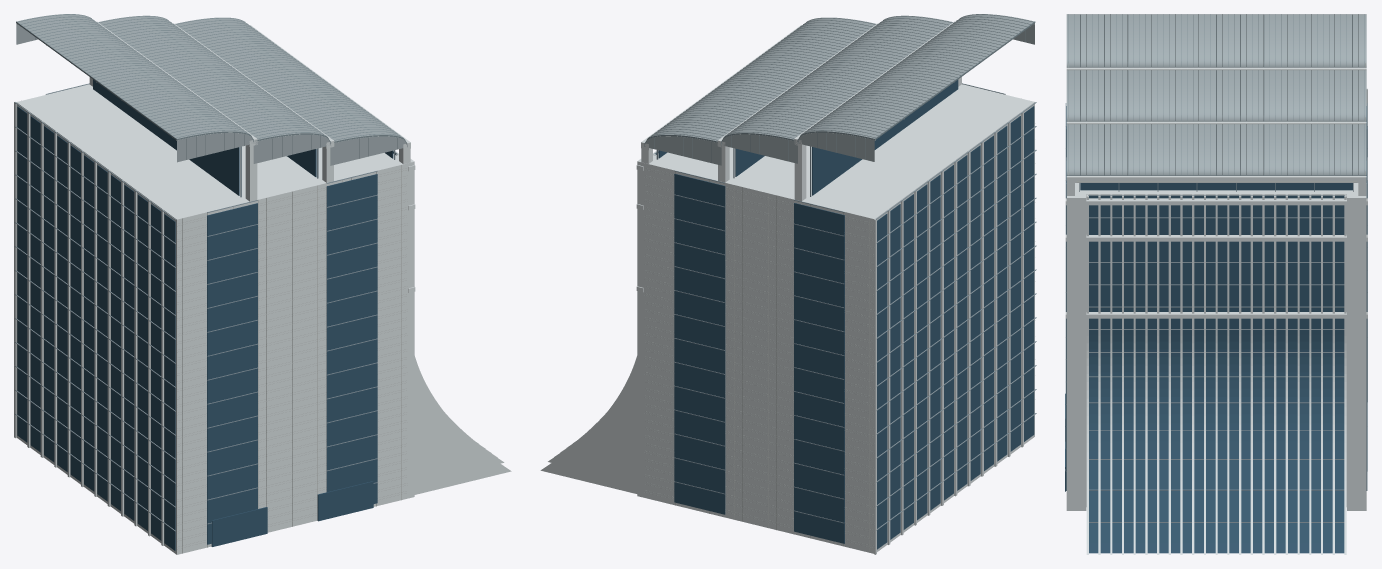
3 renders of one model, left to right at view 1: azimuth 30°, elevation 25°; view 2: azimuth 150°, elevation 25°; view 3: azimuth 270°, elevation 25°, orthographic. The views are drawn at different scales.
Parts seen in each view (by area): view 1: PaleStructuralTowerCore, InnerFaceNarrowWindowStrips, SolidSweptWhiteCheeks, EndElevationTallInsetGlass, InnerFaceStoneVerticalBands, CrownTier3_CurvedMetalSkin, CrownTier1_CurvedMetalSkin, CrownTier2_CurvedMetalSkin, CrownTier3_FoldedStandingSeams, InnerFaceFineStoreyBands, CrownTier2_FoldedStandingSeams, CrownTier1_FoldedStandingSeams (+12 smaller); view 2: PaleStructuralTowerCore, InnerFaceNarrowWindowStrips, SolidSweptWhiteCheeks, EndElevationTallInsetGlass, InnerFaceStoneVerticalBands, CrownTier3_CurvedMetalSkin, CrownTier2_CurvedMetalSkin, CrownTier1_CurvedMetalSkin, CrownTier3_FoldedStandingSeams, InnerFaceFineStoreyBands, CrownTier1_FoldedStandingSeams, CrownTier2_FoldedStandingSeams (+11 smaller); view 3: SweptBlueGreyCurtainWall, ContinuousWhiteVerticalFins, CrownTier3_CurvedMetalSkin, CrownTier1_CurvedMetalSkin, CrownTier2_CurvedMetalSkin, WideStoneEdgeSpines, StrongArchitecturalWhiteBelts, OpenCrownHeader, FineCurtainWallTransoms, CrownTier3_FoldedStandingSeams, CrownTier1_FoldedStandingSeams, CrownTier2_FoldedStandingSeams (+6 smaller).
Boxes of the visible parts, left/top/right/bottom form: PaleStructuralTowerCore: left=16, top=84, right=406, bottom=554; InnerFaceNarrowWindowStrips: left=17, top=106, right=175, bottom=550; SolidSweptWhiteCheeks: left=177, top=163, right=511, bottom=552; EndElevationTallInsetGlass: left=207, top=174, right=377, bottom=544; InnerFaceStoneVerticalBands: left=14, top=101, right=163, bottom=545; CrownTier3_CurvedMetalSkin: left=17, top=14, right=249, bottom=138; CrownTier1_CurvedMetalSkin: left=175, top=17, right=403, bottom=141; CrownTier2_CurvedMetalSkin: left=98, top=15, right=326, bottom=139; CrownTier3_FoldedStandingSeams: left=17, top=14, right=250, bottom=138; InnerFaceFineStoreyBands: left=14, top=102, right=175, bottom=531; CrownTier2_FoldedStandingSeams: left=99, top=16, right=326, bottom=138; CrownTier1_FoldedStandingSeams: left=175, top=18, right=403, bottom=140; PaleStructuralTowerCore: left=645, top=84, right=1034, bottom=553; InnerFaceNarrowWindowStrips: left=877, top=106, right=1034, bottom=549; SolidSweptWhiteCheeks: left=540, top=163, right=874, bottom=551; EndElevationTallInsetGlass: left=674, top=174, right=844, bottom=543; InnerFaceStoneVerticalBands: left=874, top=111, right=1023, bottom=554; CrownTier3_CurvedMetalSkin: left=801, top=14, right=1034, bottom=138; CrownTier2_CurvedMetalSkin: left=726, top=15, right=952, bottom=139; CrownTier1_CurvedMetalSkin: left=649, top=17, right=876, bottom=141; CrownTier3_FoldedStandingSeams: left=801, top=14, right=1033, bottom=137; InnerFaceFineStoreyBands: left=875, top=102, right=1036, bottom=530; CrownTier1_FoldedStandingSeams: left=648, top=18, right=875, bottom=140; CrownTier2_FoldedStandingSeams: left=725, top=16, right=952, bottom=138; SweptBlueGreyCurtainWall: left=1089, top=196, right=1344, bottom=553; ContinuousWhiteVerticalFins: left=1086, top=194, right=1346, bottom=554; CrownTier3_CurvedMetalSkin: left=1066, top=14, right=1366, bottom=67; CrownTier1_CurvedMetalSkin: left=1066, top=124, right=1366, bottom=175; CrownTier2_CurvedMetalSkin: left=1066, top=70, right=1366, bottom=121; WideStoneEdgeSpines: left=1066, top=194, right=1366, bottom=510; StrongArchitecturalWhiteBelts: left=1065, top=198, right=1367, bottom=318; OpenCrownHeader: left=1066, top=67, right=1366, bottom=182; FineCurtainWallTransoms: left=1088, top=195, right=1345, bottom=522; CrownTier3_FoldedStandingSeams: left=1068, top=14, right=1364, bottom=66; CrownTier1_FoldedStandingSeams: left=1068, top=124, right=1364, bottom=175; CrownTier2_FoldedStandingSeams: left=1068, top=70, right=1364, bottom=121.
Bounding box in the file's own units: 56.48 × 66.04 × 46.65.
